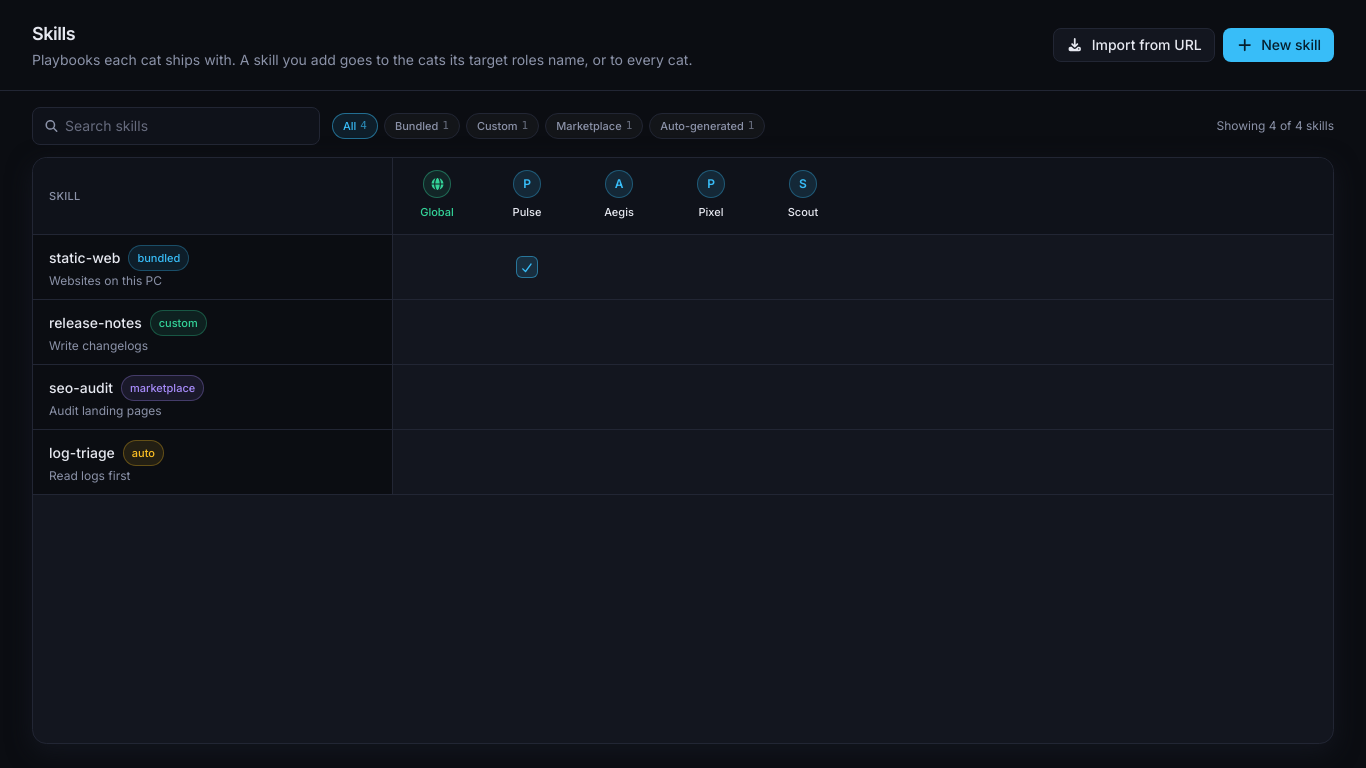
Scenario: SkillsPage › filters by type and by search text
Check: the button with aria-label "Open static-web" is shown, box [49,245,376,289]
Check: the button "Bundled 1" is shown, box [384,113,460,139]
Click the button "Marketplace 1": click(594, 126) [545,113,643,139]
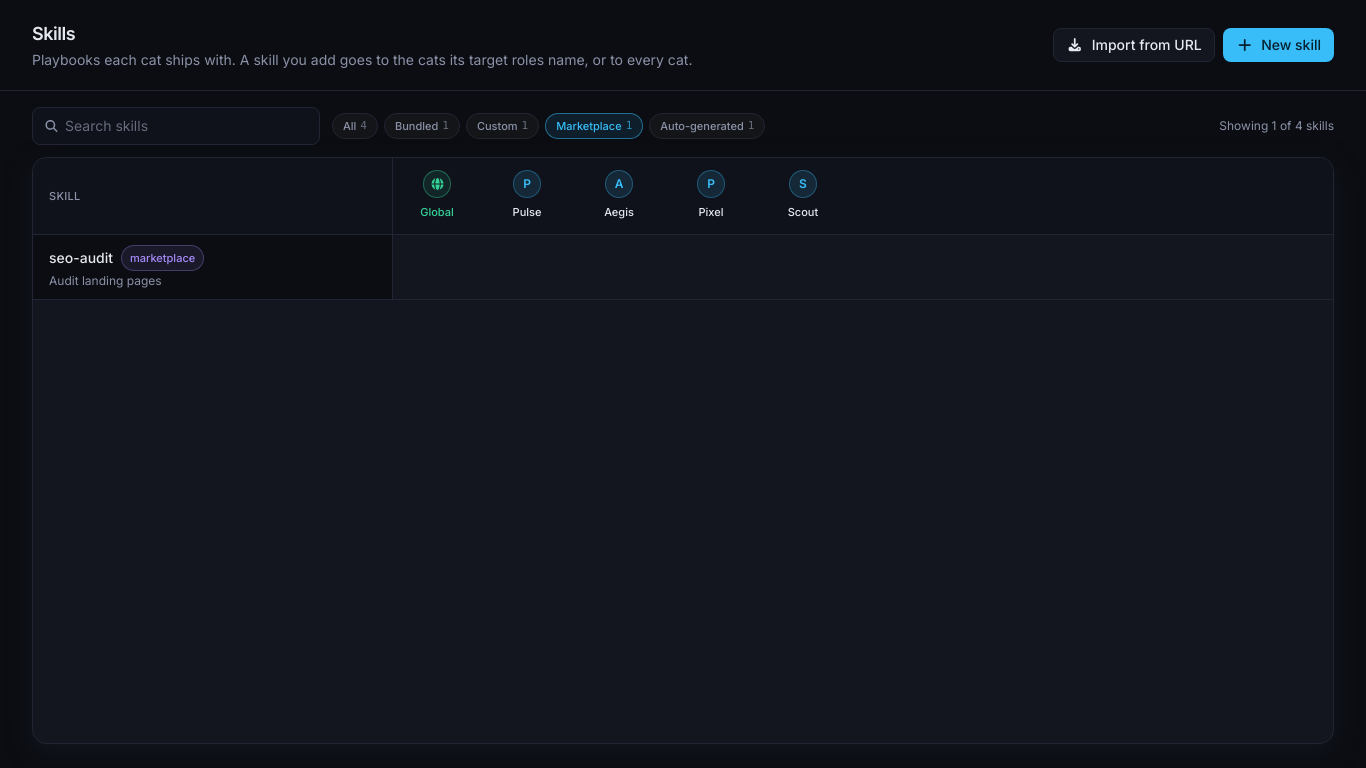
Check: the button with aria-label "Open seo-audit" is shown, box [49,245,376,289]
Check: the text "Showing 1 of 4 skills" is shown, box [1219,118,1334,134]
Click the button "All 4": click(355, 126) [332,113,378,139]
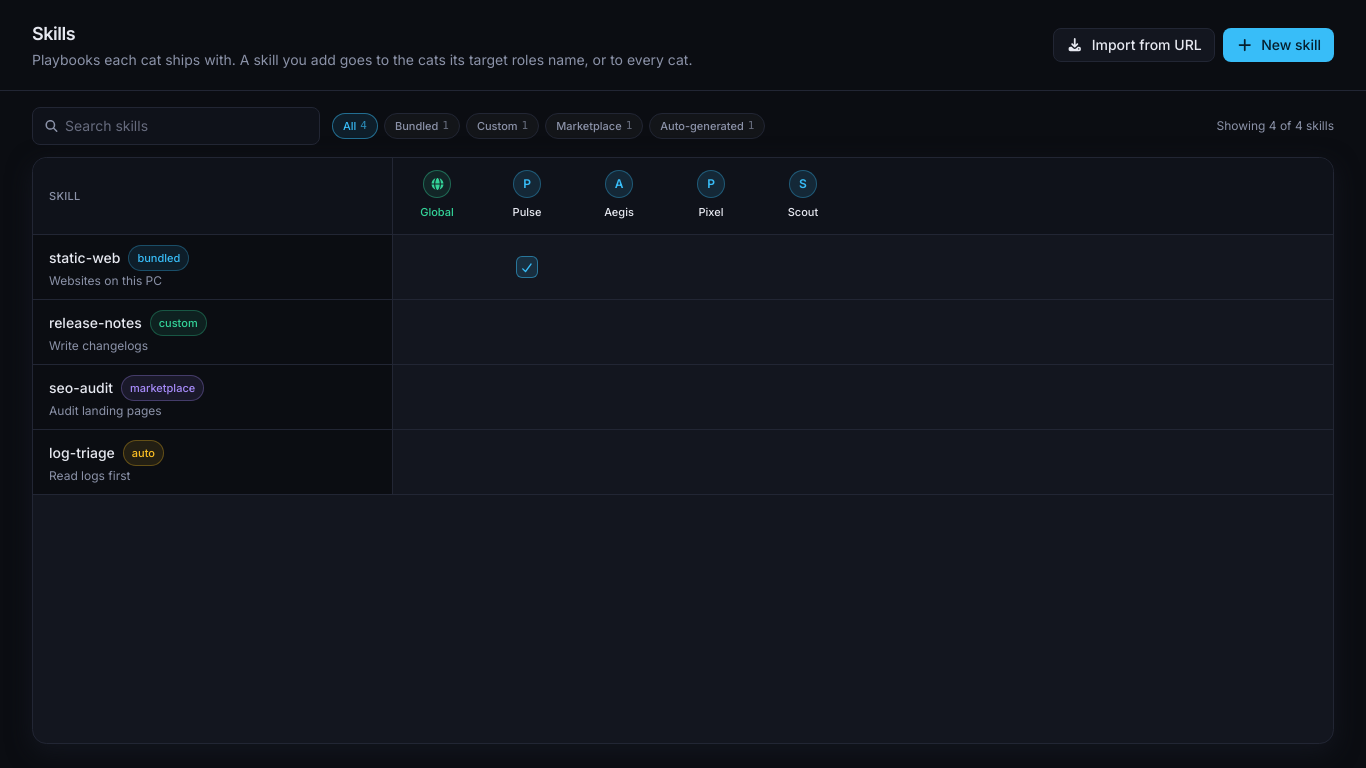
In the search field labelled "Search skills": (176, 126) [32,107,320,145], type "changelog"
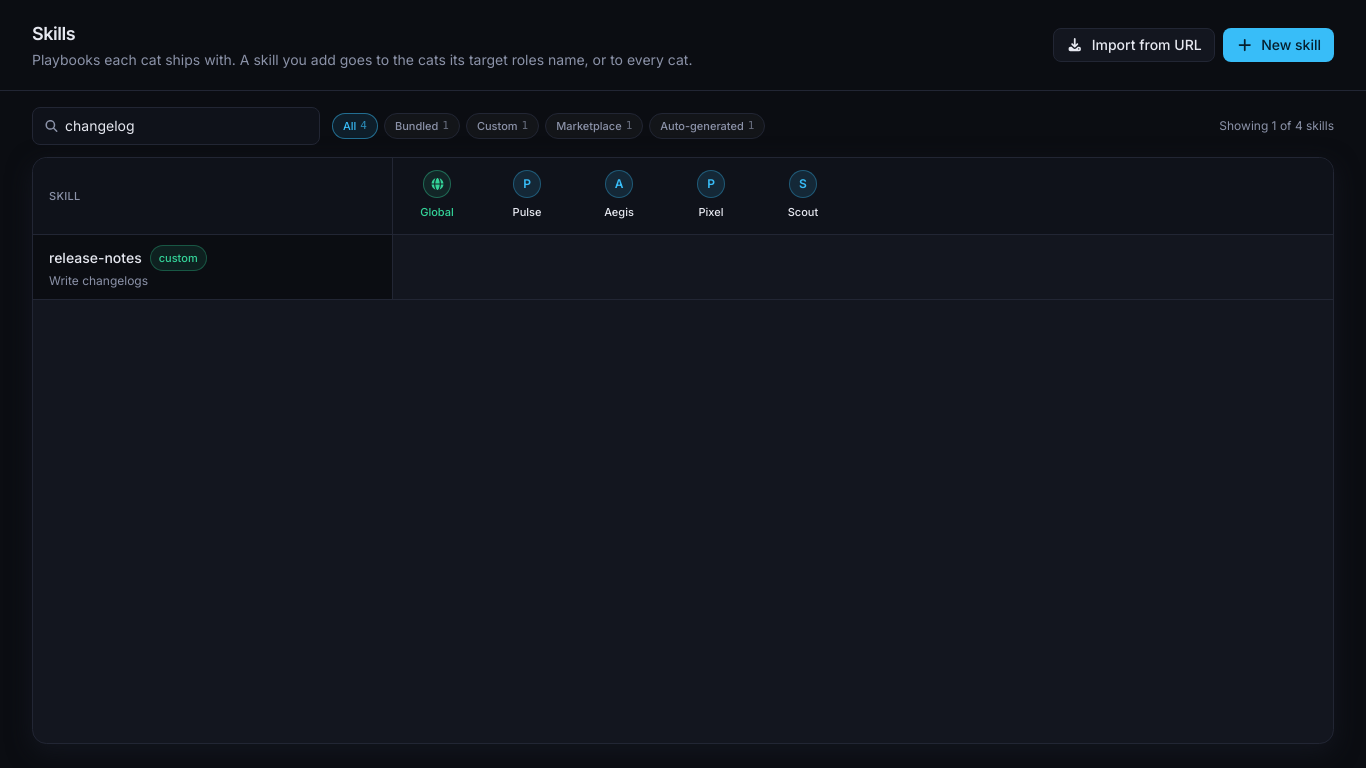
Check: the button with aria-label "Open release-notes" is shown, box [49,245,376,289]
Replace the text in the search field named "Search skills" with "zzzz": (176, 126) [32,107,320,145]
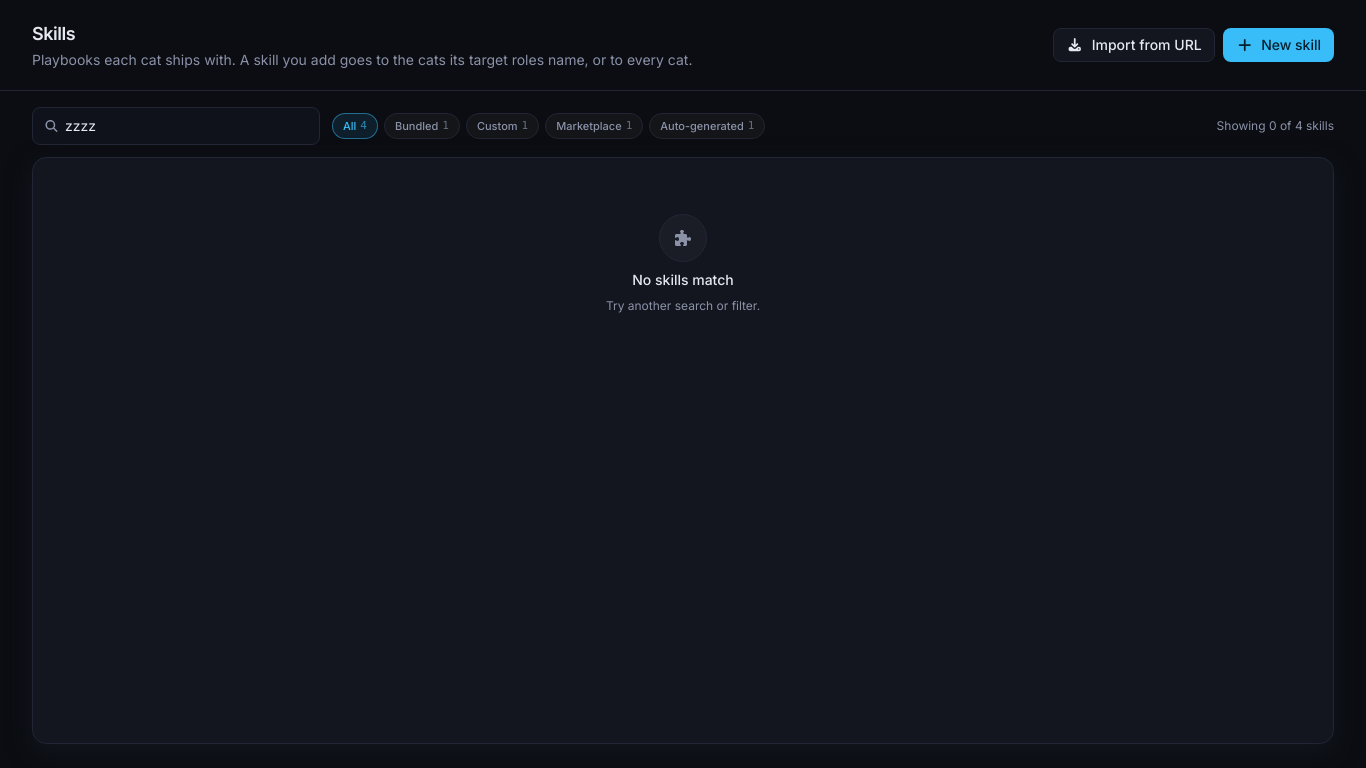
Check: the text "No skills match" is shown, box [632,270,734,290]
